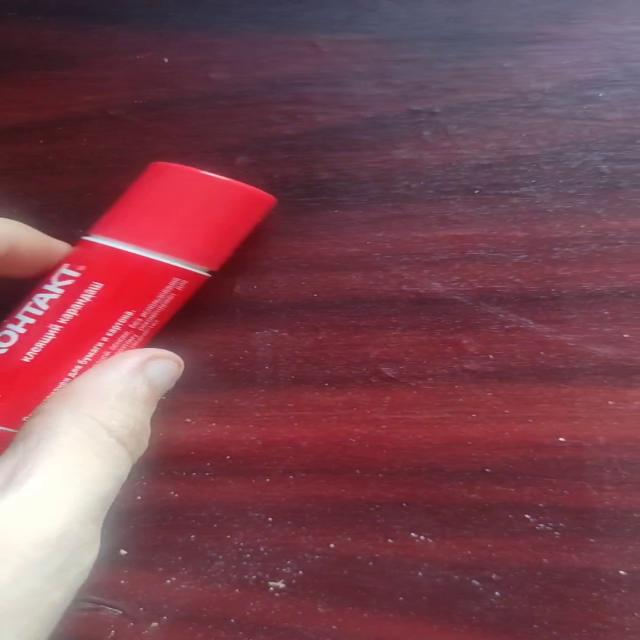glue: (0, 160, 278, 456)
